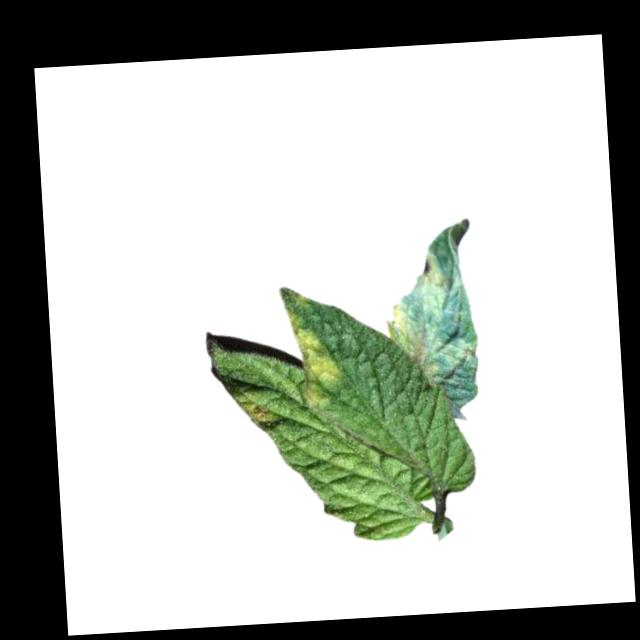Leaf_Mold: (291, 283, 342, 409), (385, 301, 443, 386), (417, 249, 451, 301), (243, 398, 281, 432)
